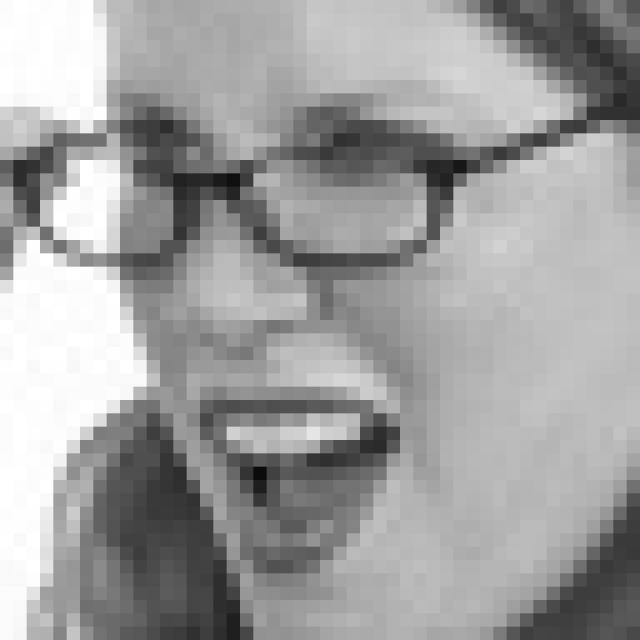disgust: (117, 82, 466, 582)
